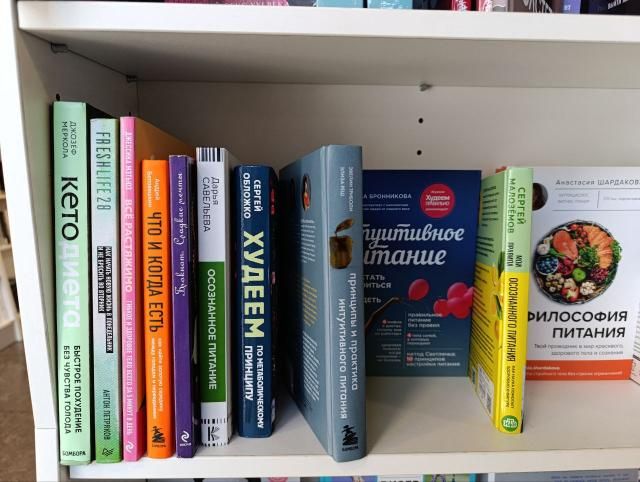book-s-spine: (53, 101, 91, 466), (327, 144, 368, 463), (90, 118, 120, 464), (196, 147, 229, 448), (235, 165, 271, 438), (498, 167, 534, 435), (141, 159, 171, 459), (169, 155, 193, 459), (120, 116, 138, 463)
